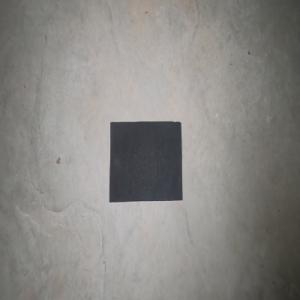PaintChip: (109, 121, 182, 202)
